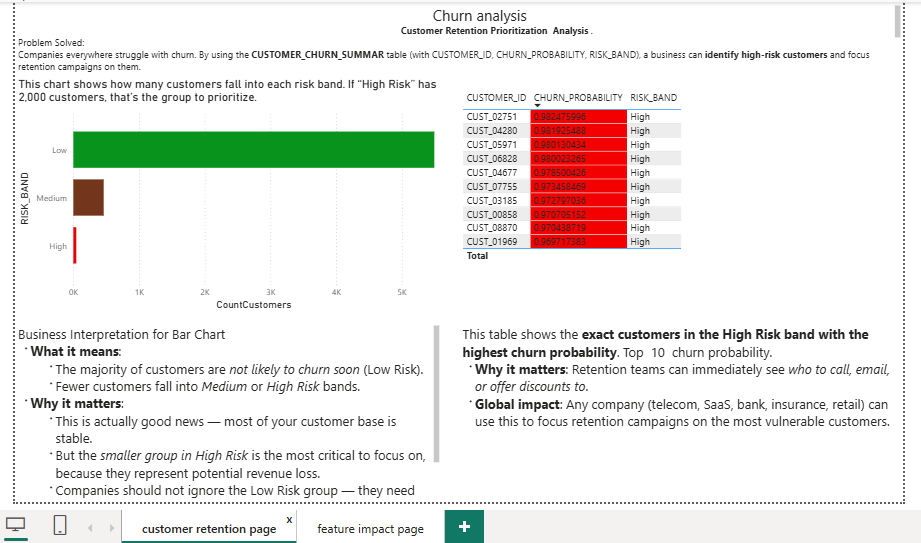

What the dashboard file says about the page in this screenshot:
{"tool":"powerbi","page":{"name":"Page 2","canvas":[1280,720],"ordinal":1},"visuals":[{"type":"clusteredBarChart","title":"This chart shows how many customers fall into each risk band. If “High Risk” has 2,000 customers, that’s the group to prioritize.","fields":{"Category":["CUSTOMER_CHURN_SUMMARY.RISK_BAND"],"Y":["CUSTOMER_CHURN_SUMMARY.CountCustomers"]},"box":[0,107.5,616.5,341],"z":0},{"type":"textbox","box":[0,0,1280,107.5],"z":1000},{"type":"textbox","box":[0,460.3,616.5,260.4],"z":2000},{"type":"tableEx","fields":{"Values":["CUSTOMER_CHURN_SUMMARY.CUSTOMER_ID","CUSTOMER_CHURN_SUMMARY.CHURN_PROBABILITY","CUSTOMER_CHURN_SUMMARY.RISK_BAND"]},"box":[640,122.6,640,337.6],"z":3000},{"type":"textbox","box":[640,460.3,640,260.4],"z":4000}]}

Visuals, with their boxes on the page's 1280x720 design canvas (x1, y1, x2, y2). These are canvas units, not pixel positions in the 921x543 screenshot, which may show the page scaled, cropped or inside an application window:
"This chart shows how many customers fall into each risk band. If “High Risk” has 2,000 customers, that’s the group to prioritize." clusteredBarChart: (0,108,616,448)
textbox: (0,0,1280,108)
textbox: (0,460,616,721)
tableEx - CUSTOMER_CHURN_SUMMARY.CUSTOMER_ID x CUSTOMER_CHURN_SUMMARY.CHURN_PROBABILITY: (640,123,1280,460)
textbox: (640,460,1280,721)
